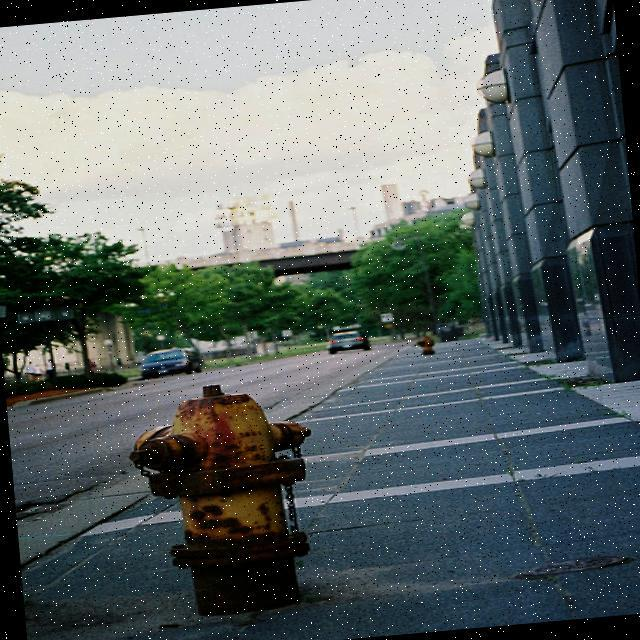fire_hydrant: (114, 374, 334, 624), (413, 334, 436, 355)
